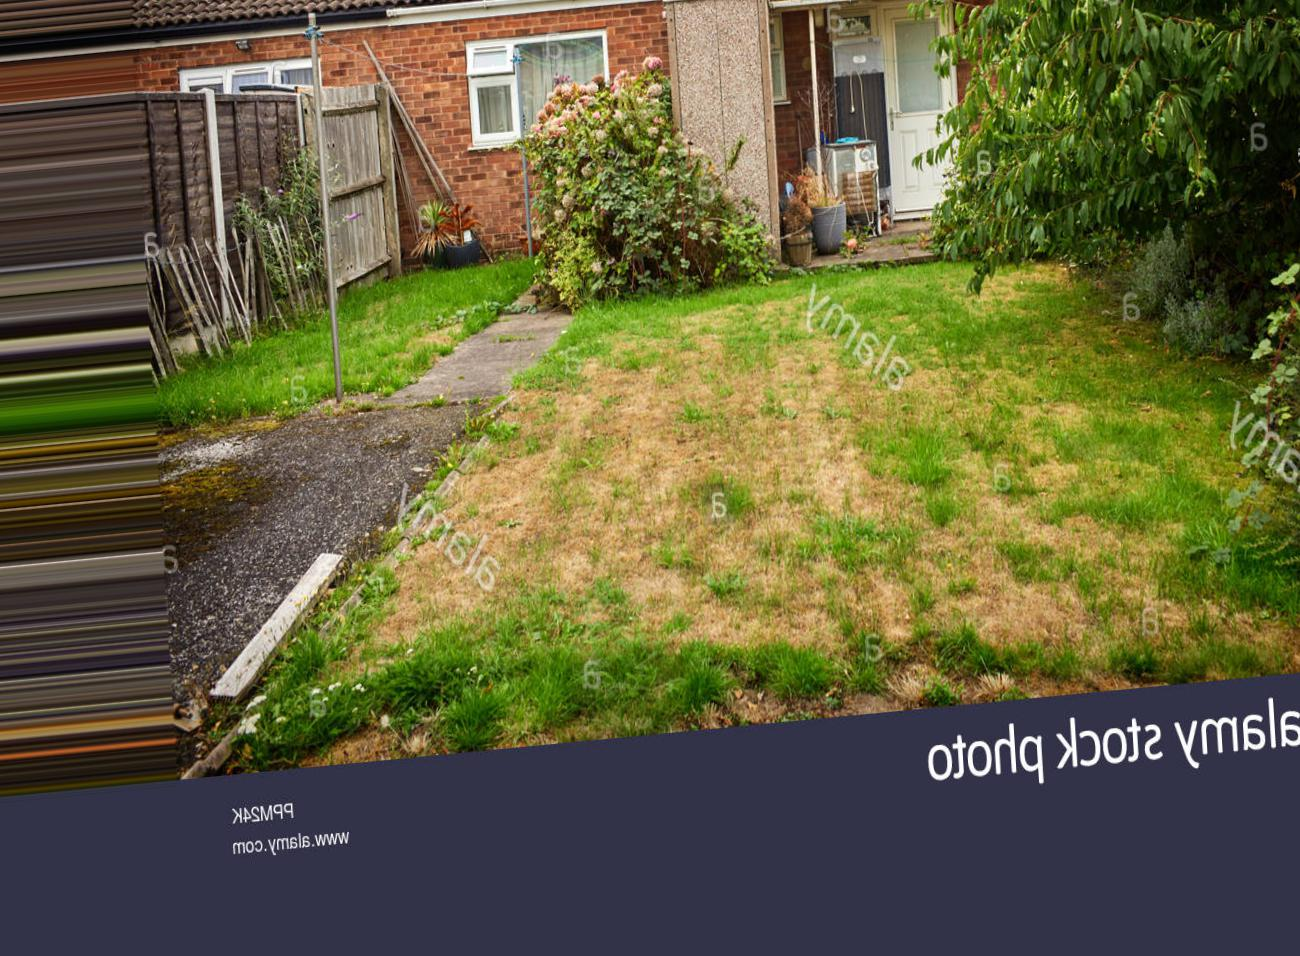patch: (690, 343, 847, 554), (901, 512, 1100, 659), (542, 392, 663, 588), (710, 571, 844, 650), (467, 460, 529, 534), (401, 568, 466, 624)
